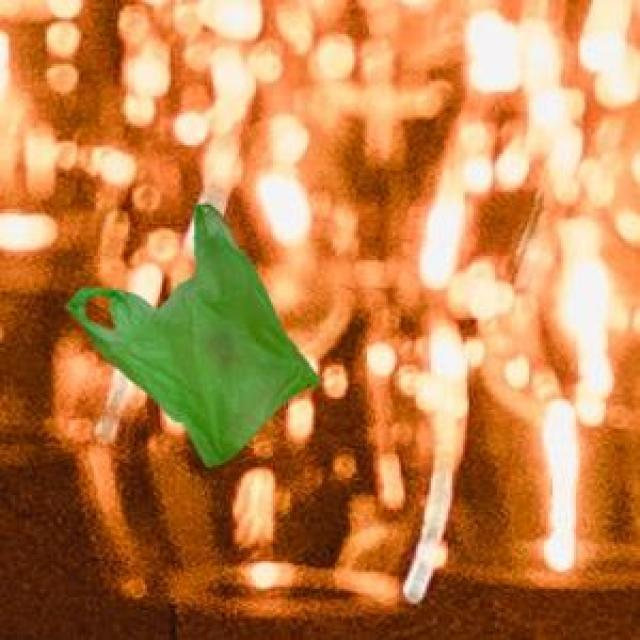waste: (68, 205, 318, 467)
